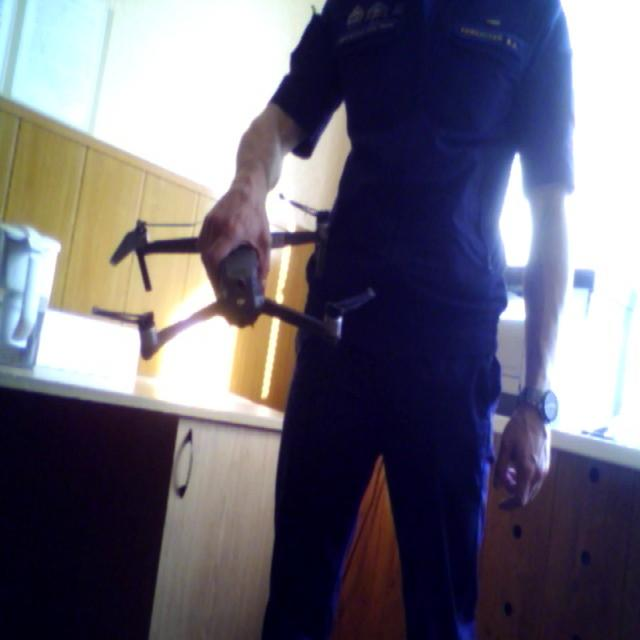drone: (89, 192, 393, 374)
